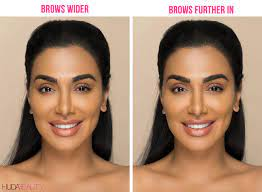n.sharp: (55, 83, 75, 119)
